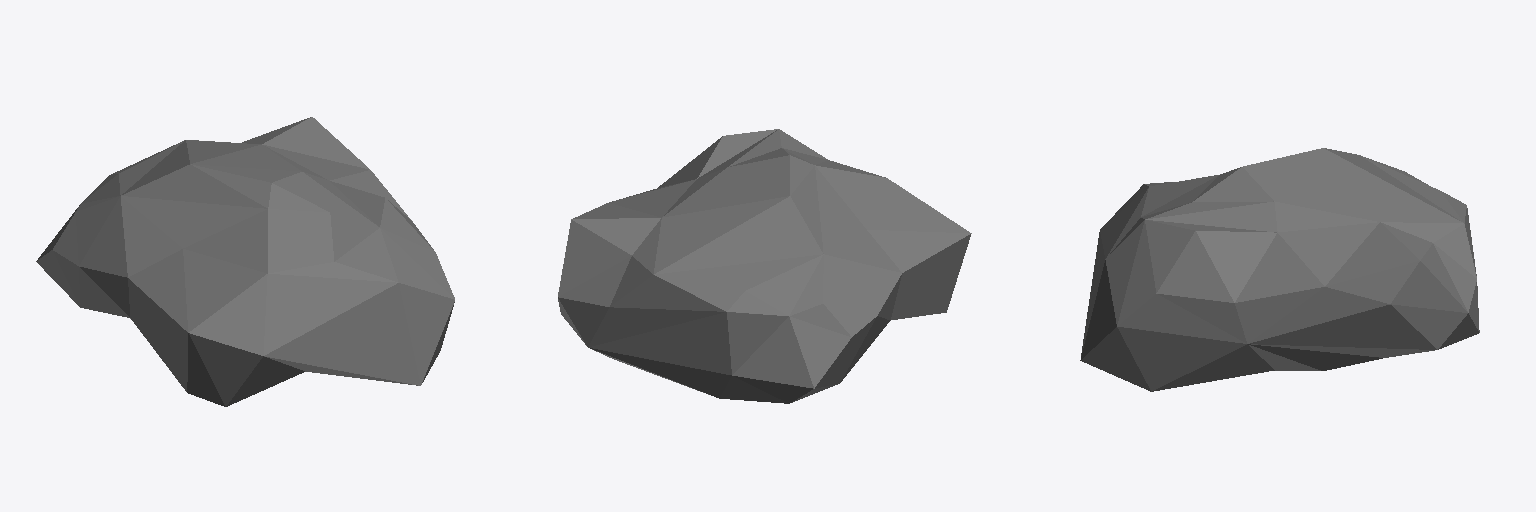
File: Rock1_LP_OBJ.obj
The picture shows the model from 3 angles: view 1: azimuth 30°, elevation 25°; view 2: azimuth 150°, elevation 25°; view 3: azimuth 270°, elevation 25°; orthographic projection.
Parts seen in each view (by area): view 1: cube_NewUVs; view 2: cube_NewUVs; view 3: cube_NewUVs.
Boxes of the visible parts, <box> form: cube_NewUVs: <box>36,117,454,406</box>; cube_NewUVs: <box>558,129,971,403</box>; cube_NewUVs: <box>1080,148,1479,391</box>.
Bounding box in the file's own units: 3 × 1.75 × 3.61.